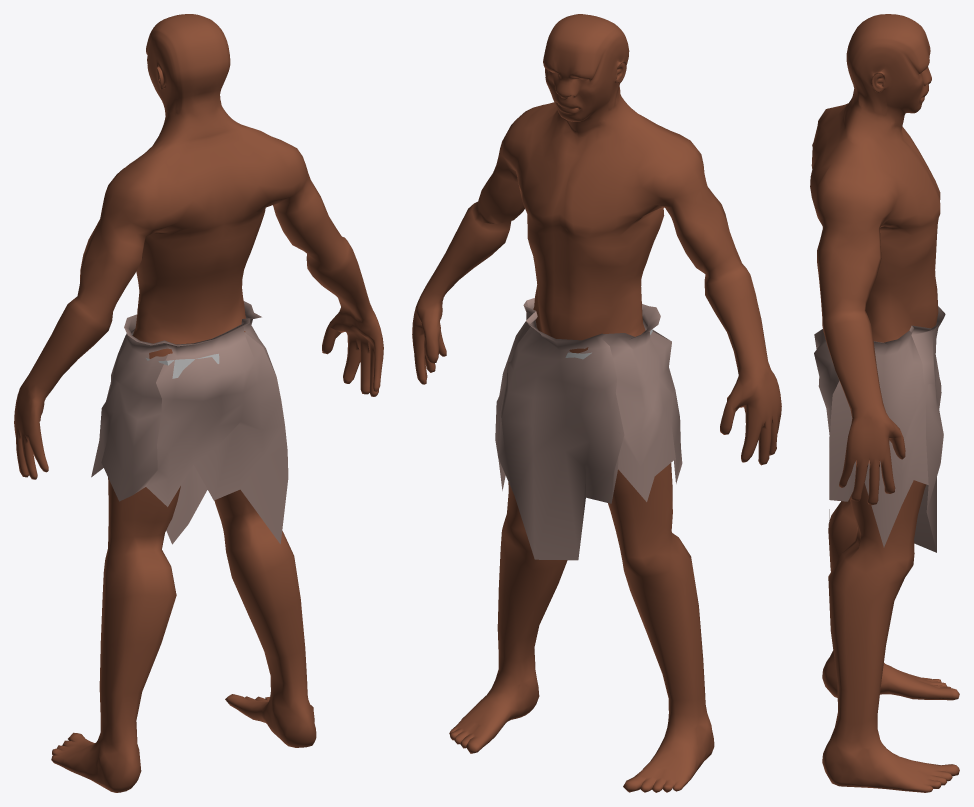
File: CharJogo.fbx
3 renders of one model, left to right at view 1: azimuth 30°, elevation 25°; view 2: azimuth 150°, elevation 25°; view 3: azimuth 270°, elevation 25°, orthographic.
Parts seen in each view (by area): view 1: polySurface11, polySurface9; view 2: polySurface11, polySurface9; view 3: polySurface11, polySurface9.
Boxes of the visible parts, box(x1,y1,x2,y2) form: polySurface11: box(14, 14, 383, 792); polySurface9: box(91, 301, 288, 544); polySurface11: box(412, 14, 781, 792); polySurface9: box(495, 298, 682, 560); polySurface11: box(810, 14, 959, 792); polySurface9: box(814, 306, 945, 552).
Size of the model in its own units: 17.12 by 33.42 by 6.3.
